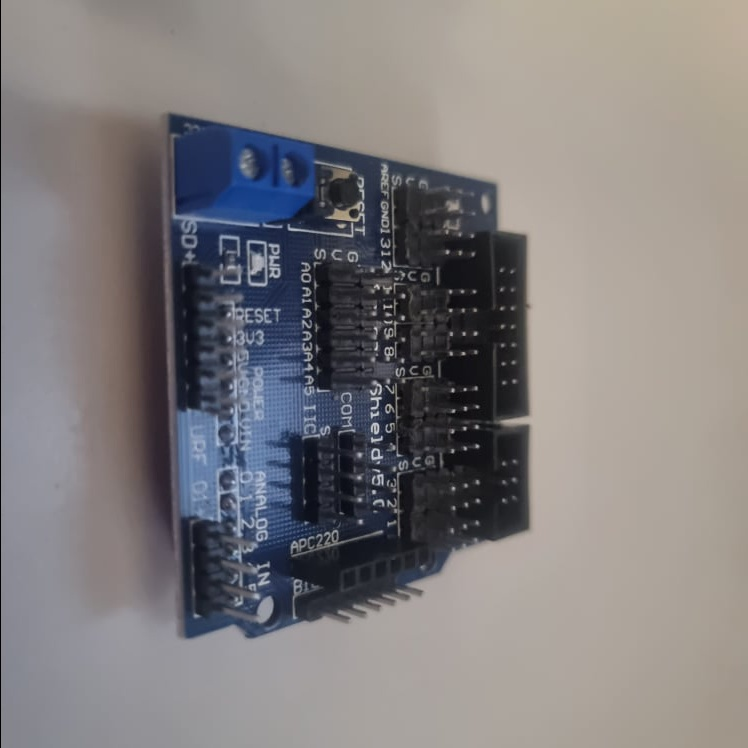5V EXPANSION: (171, 113, 538, 645)
